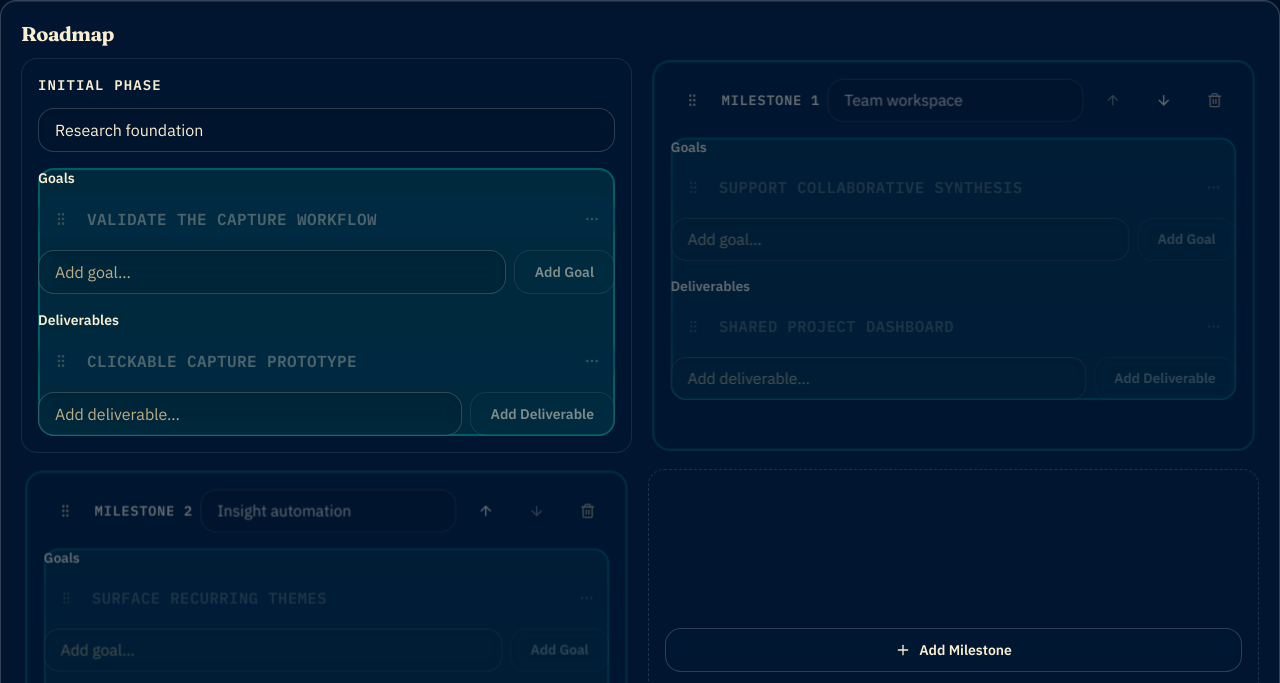
Test: activates visible roadmap add buttons with pointer clicks
The image size is (1280, 683).
Expected: the button with aria-label "Add Goal to phase 1" is disabled, x1=514 y1=250 x2=615 y2=294
Expected: the button with aria-label "Add Deliverable to phase 1" is disabled, x1=470 y1=392 x2=615 y2=436
Type "Pointer goal" into the field named "Add goal to Research foundation, phase 1" at x=272, y=272, box x1=38 y1=250 x2=506 y2=294
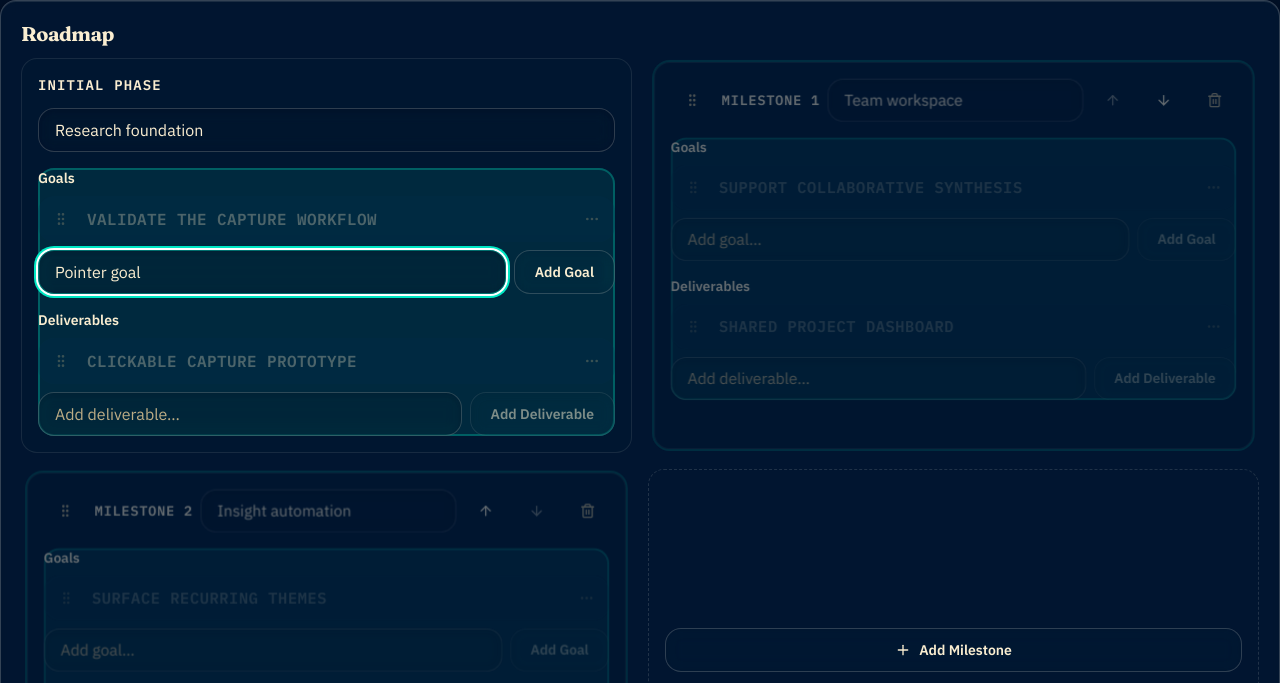
Click the button with aria-label "Add Goal to phase 1" at x=564, y=272, box x1=514 y1=250 x2=615 y2=294
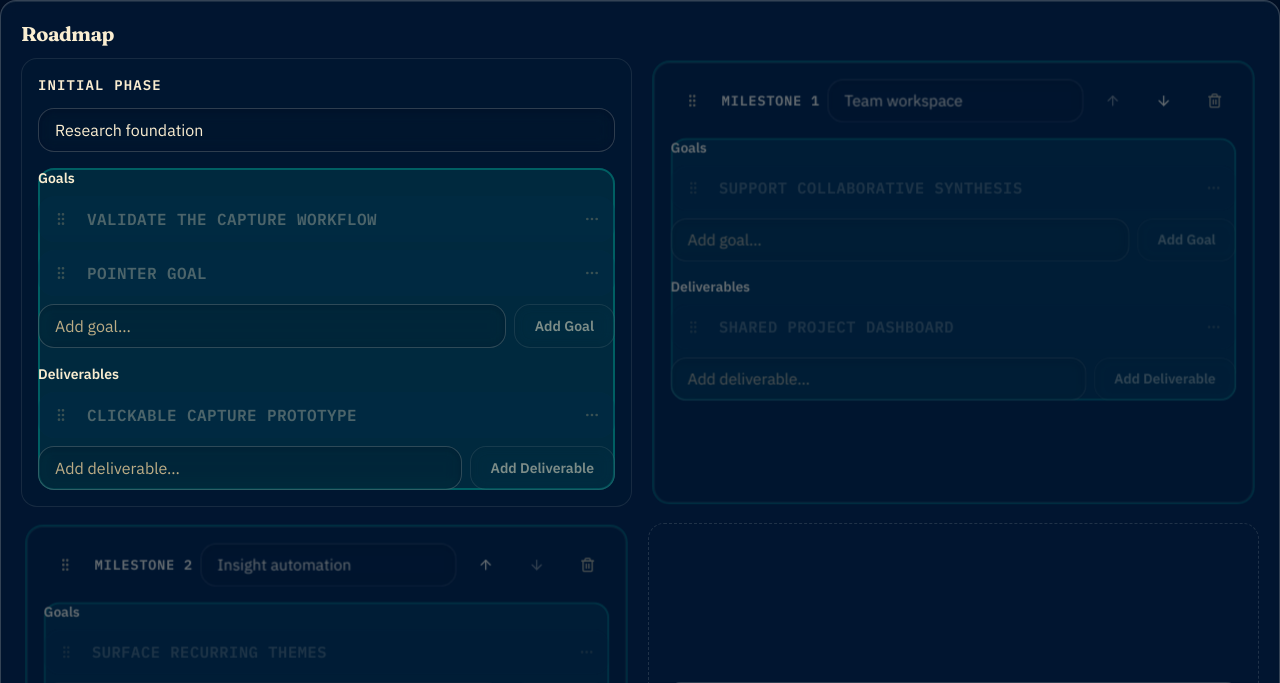
Type "Pointer output" into the field named "Add deliverable to Research foundation, phase 1" at x=250, y=468, box x1=38 y1=446 x2=462 y2=490
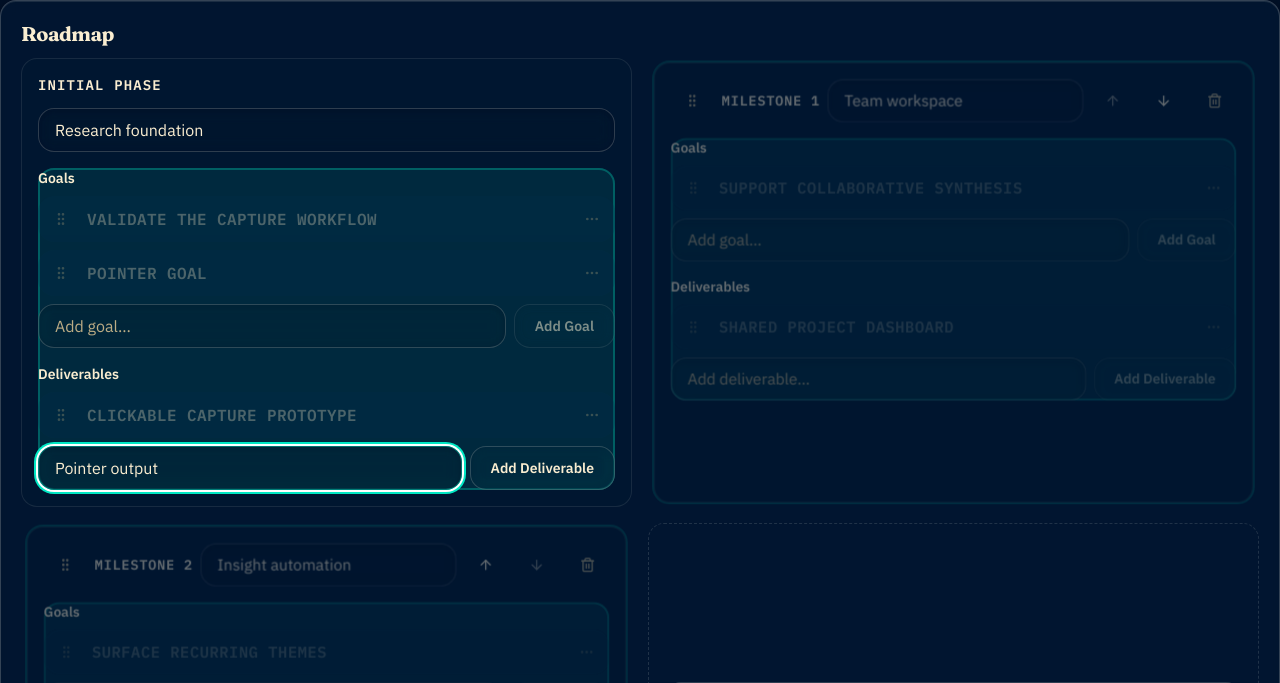
Click the button with aria-label "Add Deliverable to phase 1" at x=542, y=468, box x1=470 y1=446 x2=615 y2=490
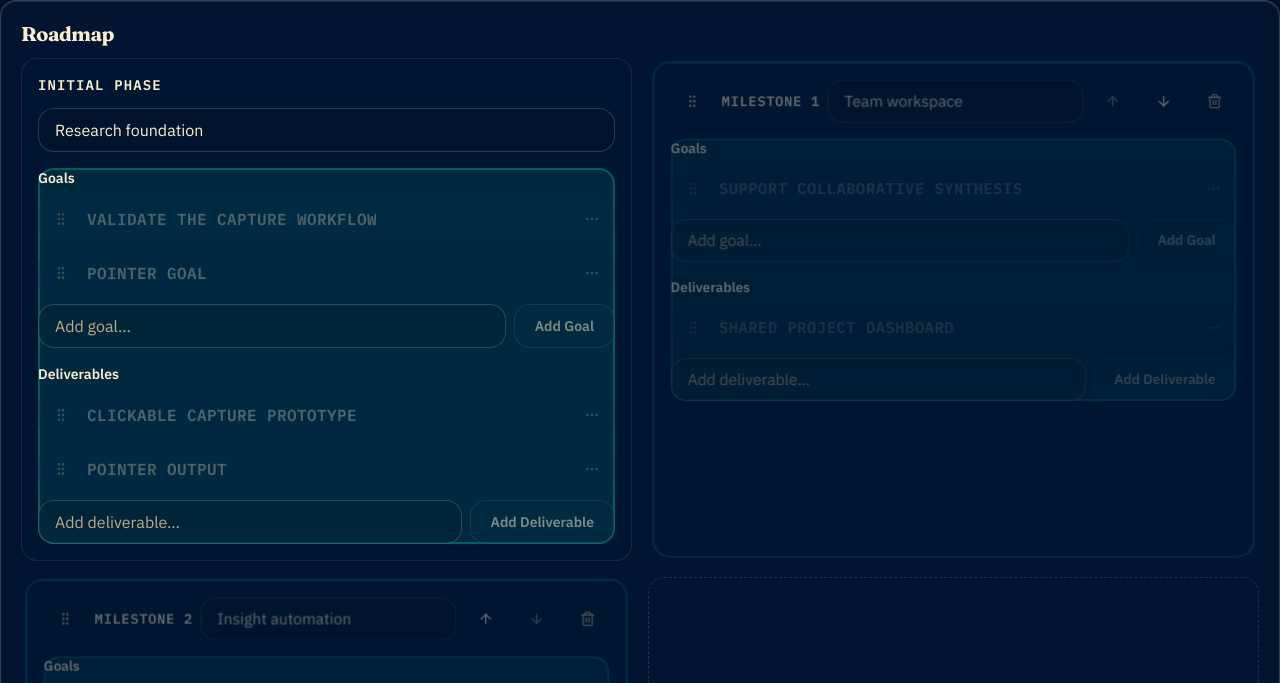
Expected: the text "Pointer goal" is shown, x1=87 y1=263 x2=207 y2=283
Expected: the text "Pointer output" is shown, x1=87 y1=459 x2=227 y2=479
